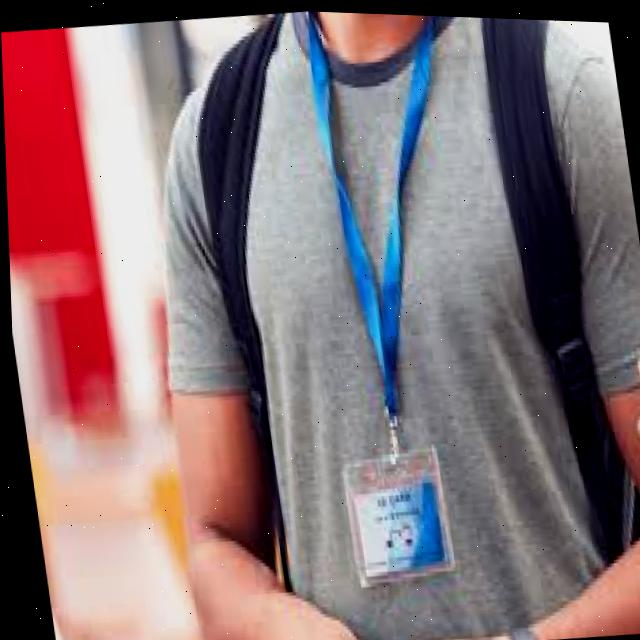id_card: (296, 11, 465, 587)
